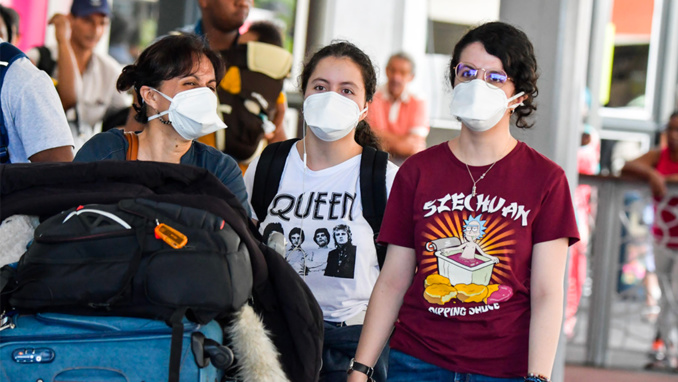with_mask: (146, 69, 227, 140), (452, 63, 521, 133), (300, 76, 371, 142)
